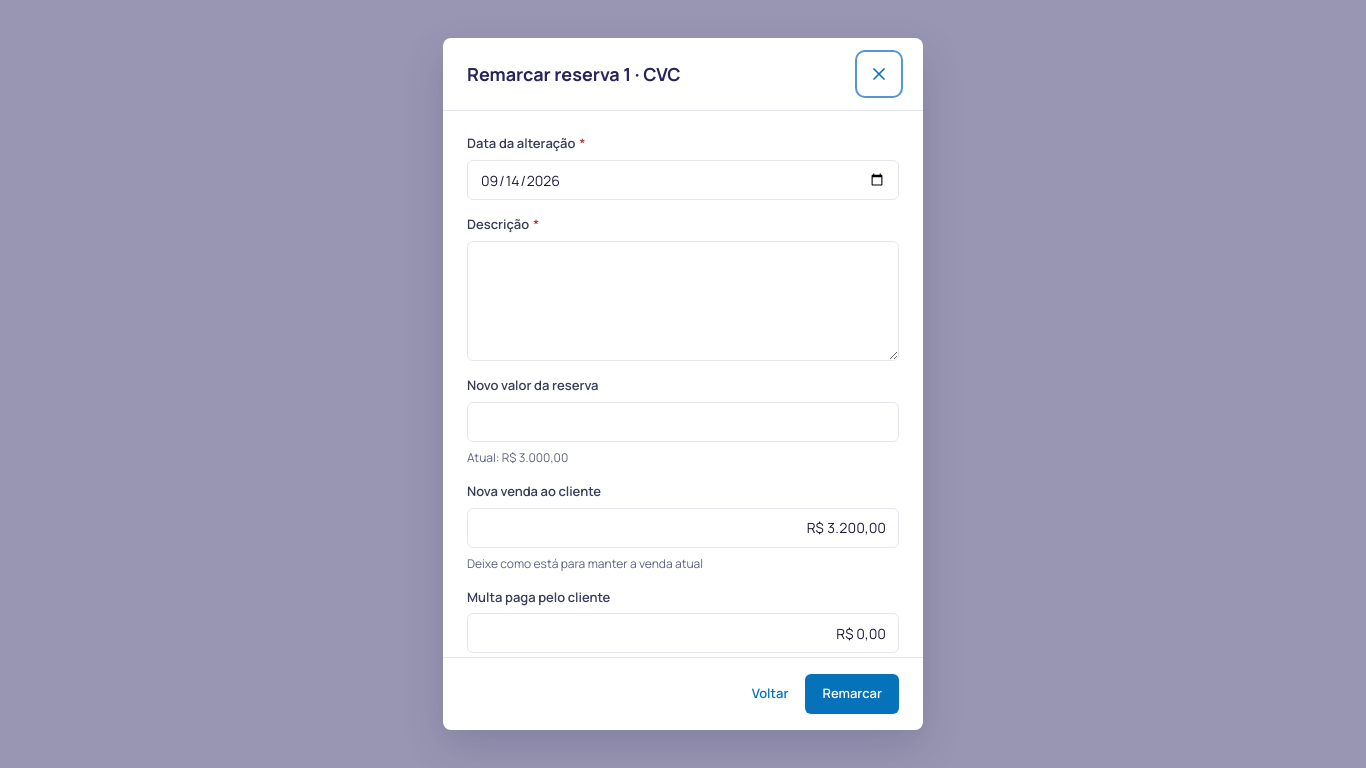
Test: avisa quando o novo custo fica acima da venda ao cliente
This screenshot has width=1366, height=768.
Expected: the text "RAV do cliente ficará negativo" is not shown
Type "3.500,00" into the field labelled "Novo valor da reserva".
click(683, 422); type("3.500,00")  # box [467, 402, 899, 442]
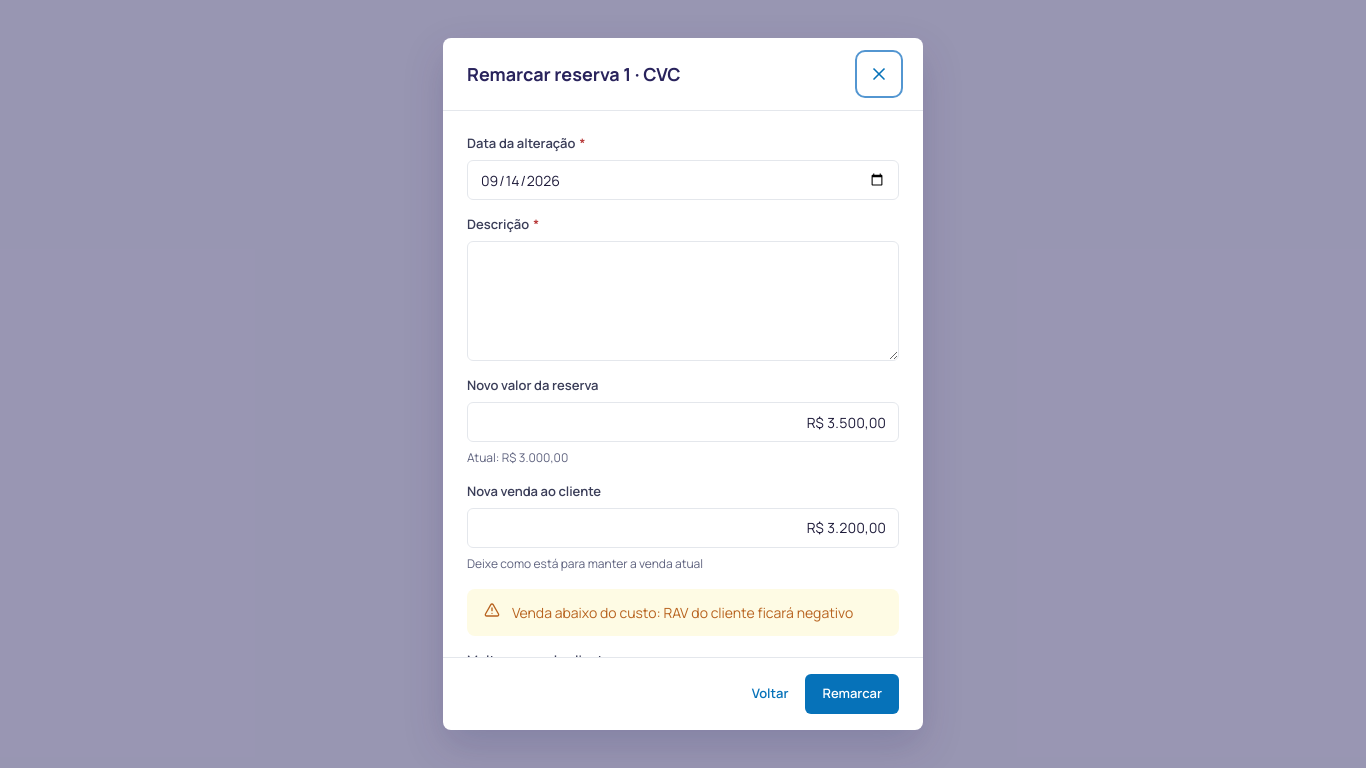
Result: the text "Venda abaixo do custo: RAV do cliente ficará negativo" is shown at [512, 602, 882, 623]
Replace the text in the field labelled "Nova venda ao cliente" with "4.000,00" at [683, 528], box [467, 508, 899, 548]
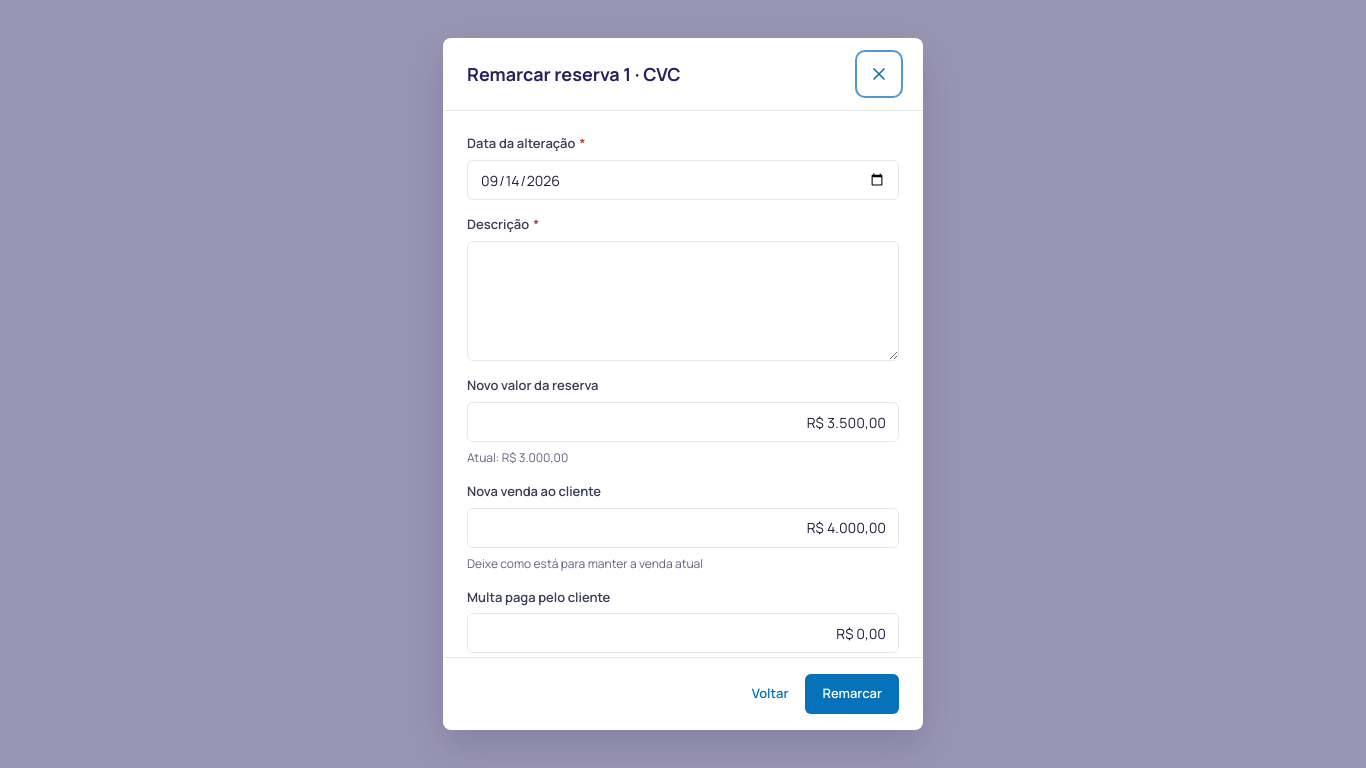
Result: the text "RAV do cliente ficará negativo" is gone
